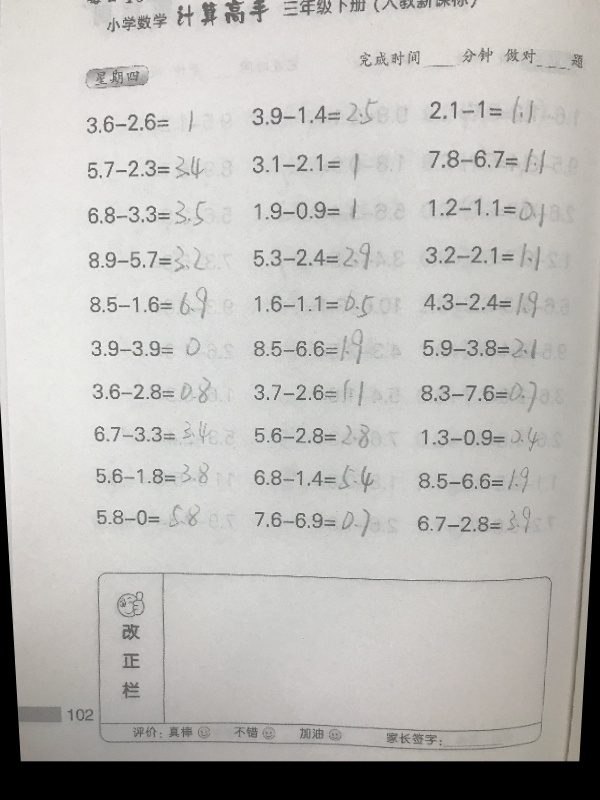equation: (249, 238, 400, 274), (86, 282, 211, 324), (249, 373, 403, 407), (246, 288, 383, 325), (419, 93, 557, 129), (251, 420, 401, 453), (248, 330, 384, 366), (248, 462, 387, 497), (248, 98, 386, 133), (423, 142, 560, 177), (247, 504, 385, 538), (423, 194, 559, 228), (420, 239, 554, 273), (89, 373, 220, 407), (419, 288, 552, 321), (84, 197, 211, 231), (419, 377, 546, 411), (419, 332, 551, 364), (419, 423, 545, 456), (415, 464, 540, 497), (91, 460, 223, 491), (85, 243, 209, 276), (90, 417, 216, 449), (251, 195, 384, 225), (248, 149, 362, 184), (93, 500, 221, 531), (415, 505, 539, 537), (83, 151, 208, 182), (81, 109, 205, 138), (87, 334, 206, 360)
